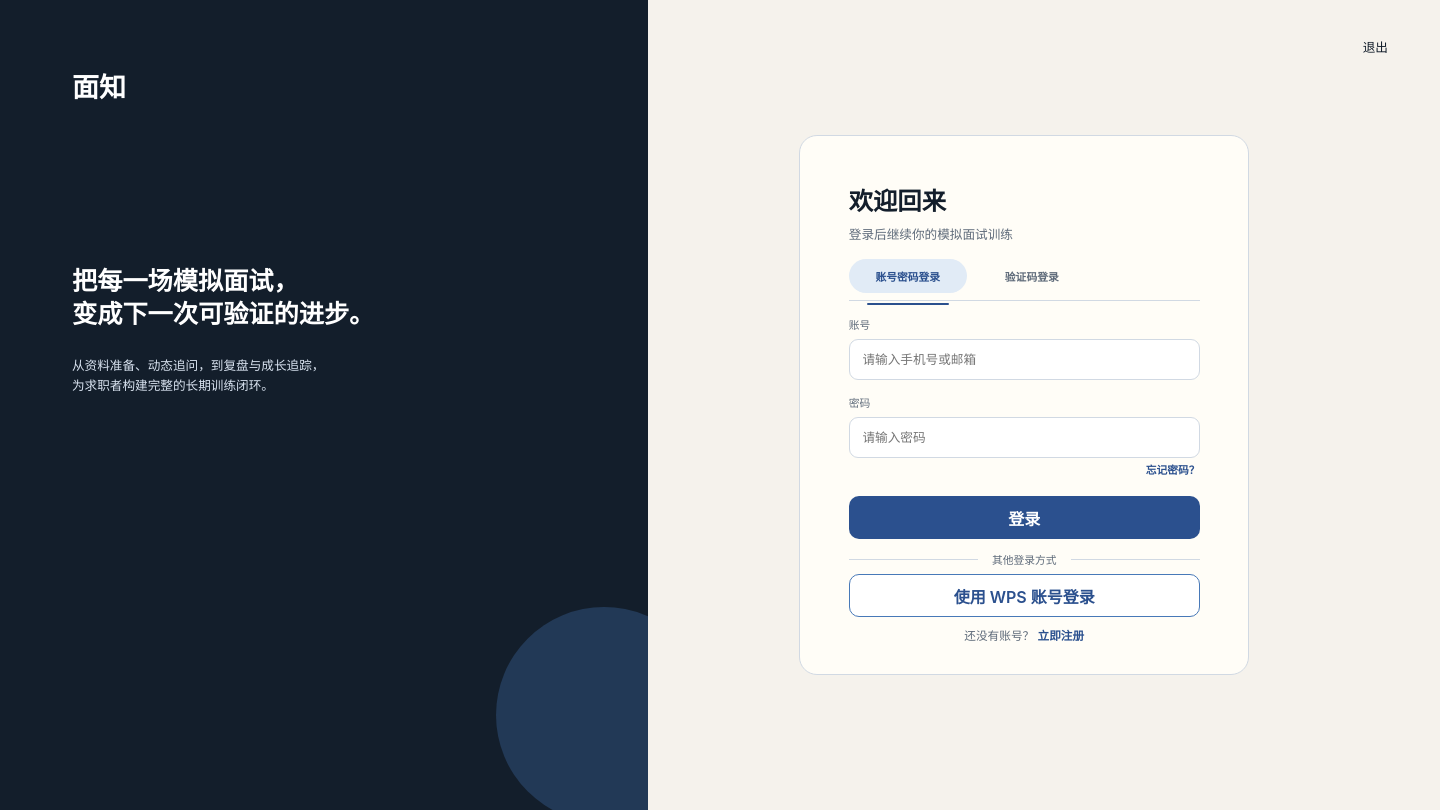
LoginPage（设计稿账号密码 / 验证码 / WPS 登录） › 密码错误时提示演示账号信息且停留在登录页
The width and height of the screenshot is (1440, 810).
Type "demo@mianzhi.cn" into the field with placeholder "请输入手机号或邮箱" at (1024, 360), box [849,339,1200,380]
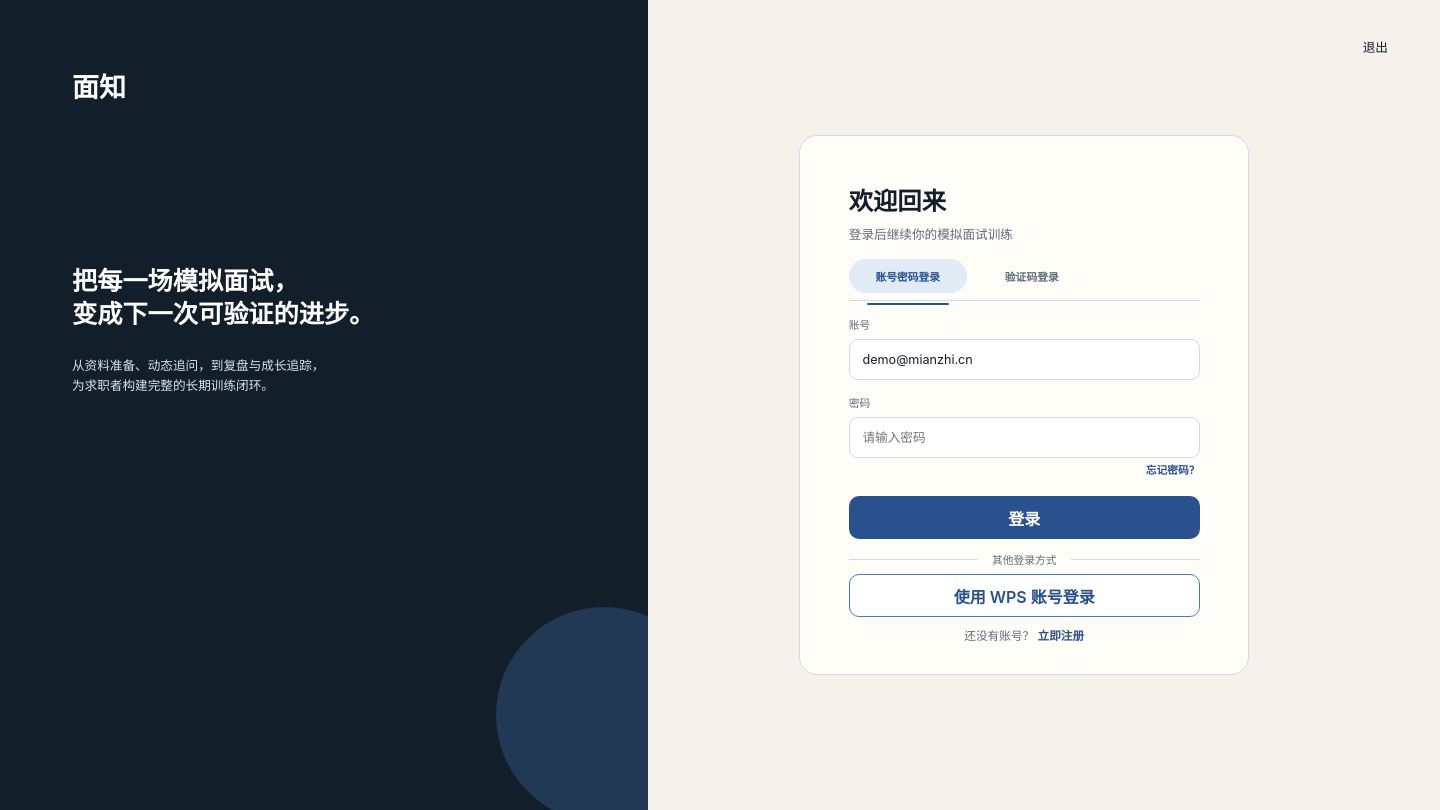
Type "wrong-password" into the password field with placeholder "请输入密码" at (1024, 438), box [849,417,1200,458]
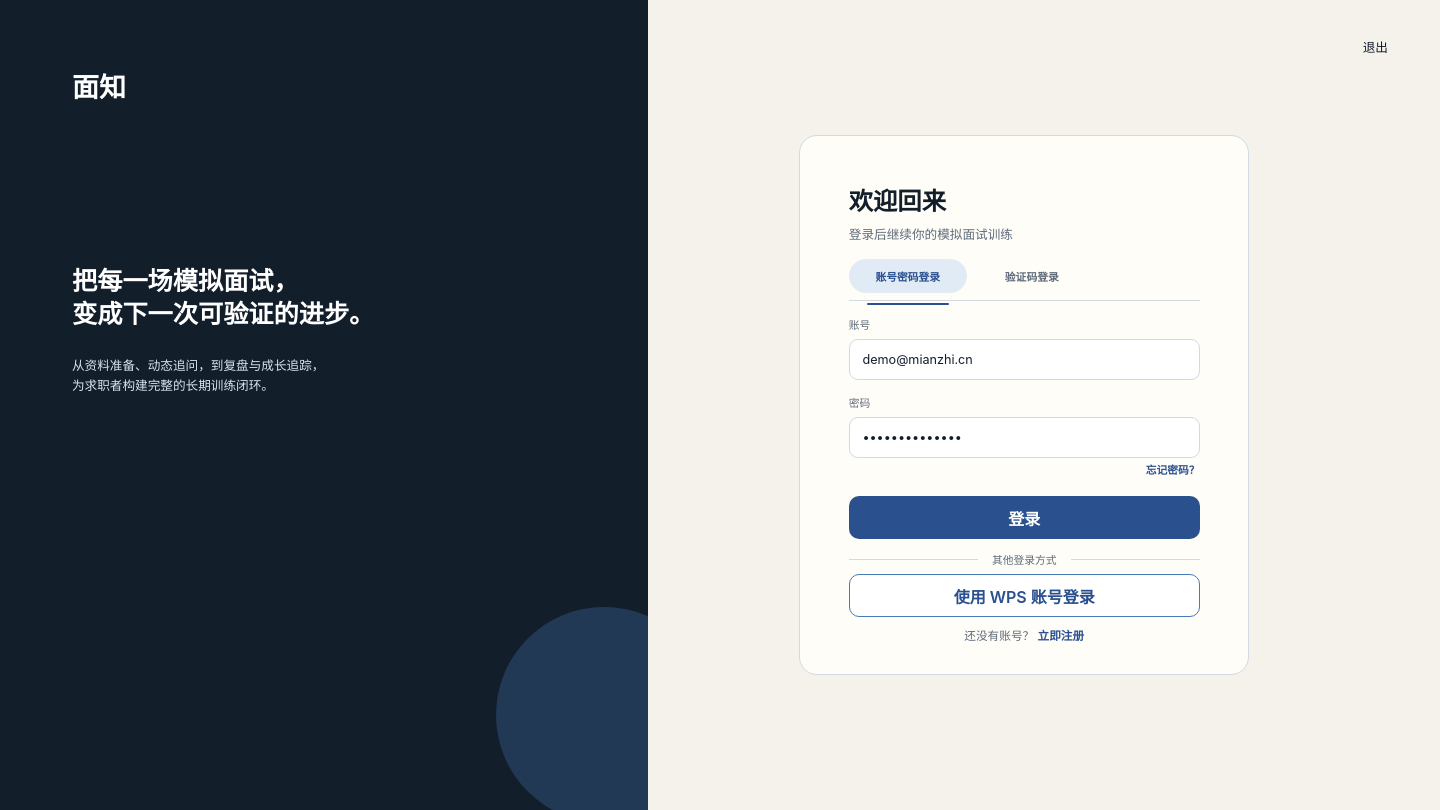
Click the button "登录" at (1024, 518), box [849,496,1200,540]
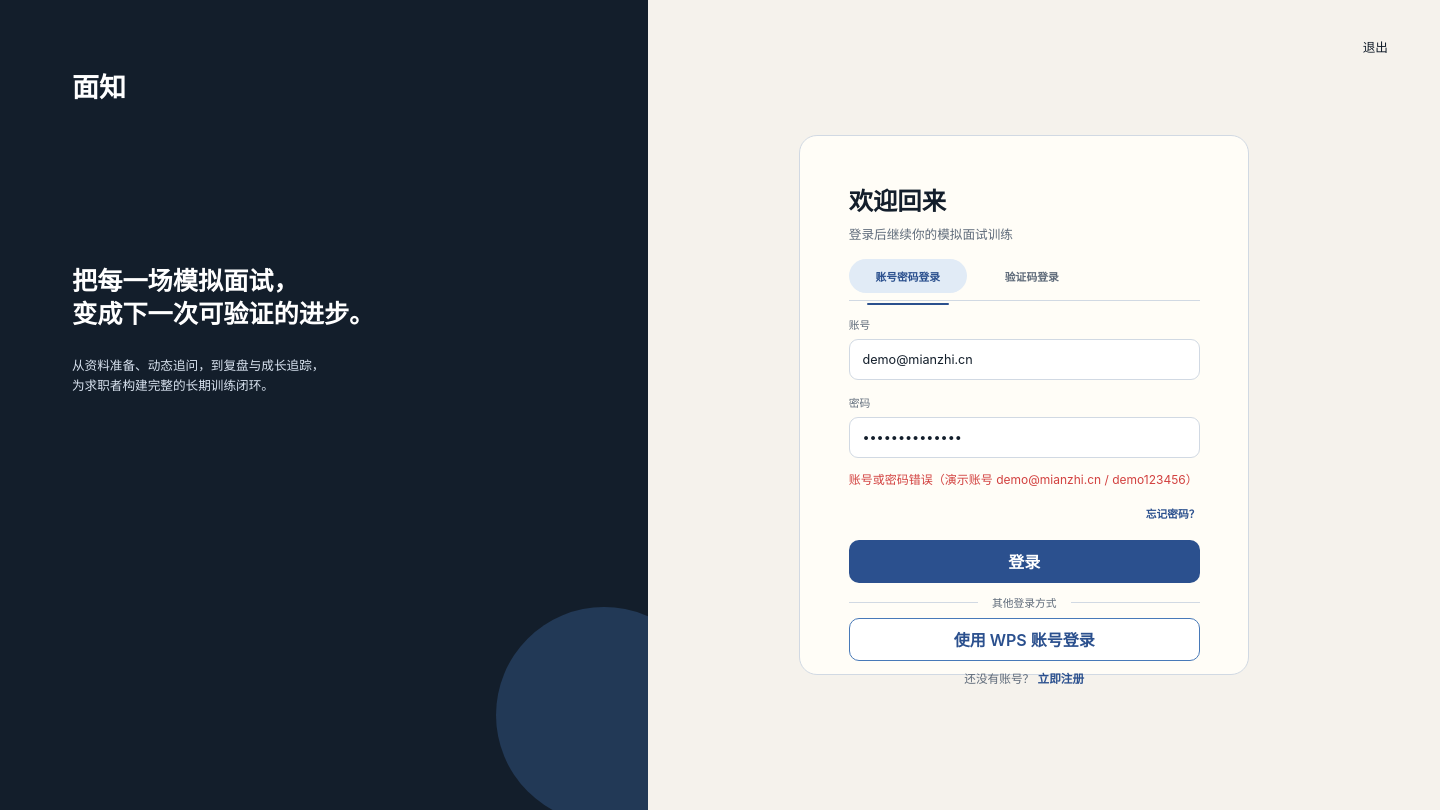
Expected: the heading "欢迎回来" is shown, [849,186,946,216]
Expected: the text "账号或密码错误（演示账号 demo@mianzhi.cn / demo123456）" is shown, [849,470,1200,490]
